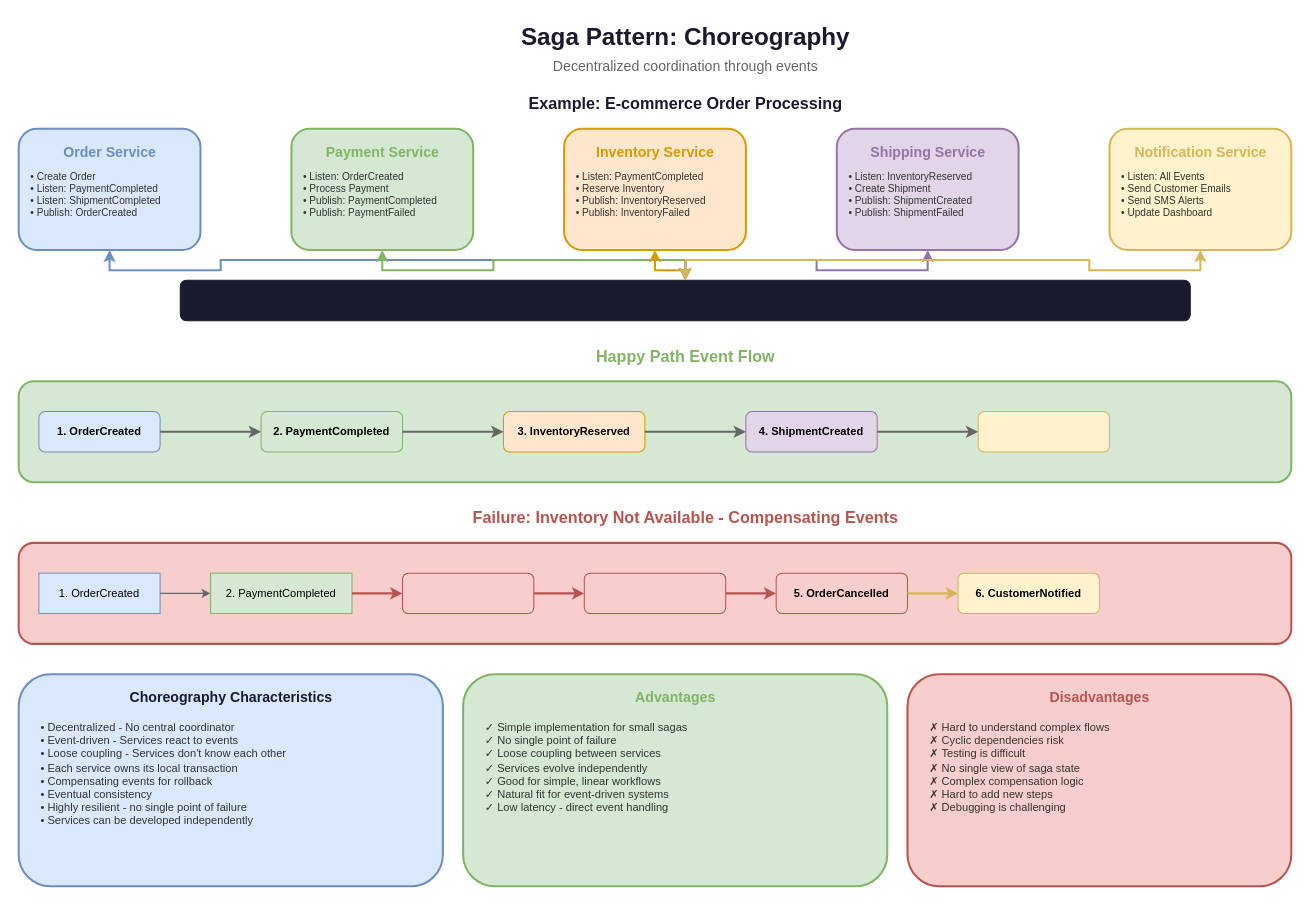
The diagram is 1309 pixels wide and 904 high, and some of its shapes have lost their labels. The shapes that lost their labels are listed below. From the top down, each one's centre as x and y in pixels, then its label:
At [684,300]: "Event Bus / Message Broker".
At [1043,431]: "5. OrderCompleted".
At [467,593]: "3. InventoryFailed".
At [654,593]: "4. PaymentRefunded".
